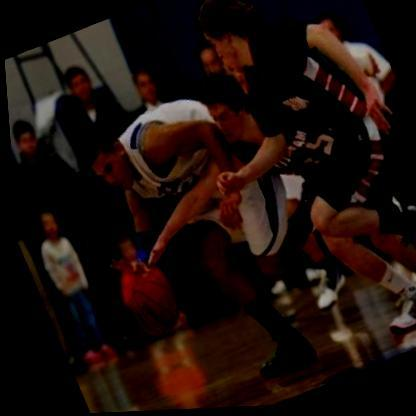basketball: (108, 259, 193, 350)
